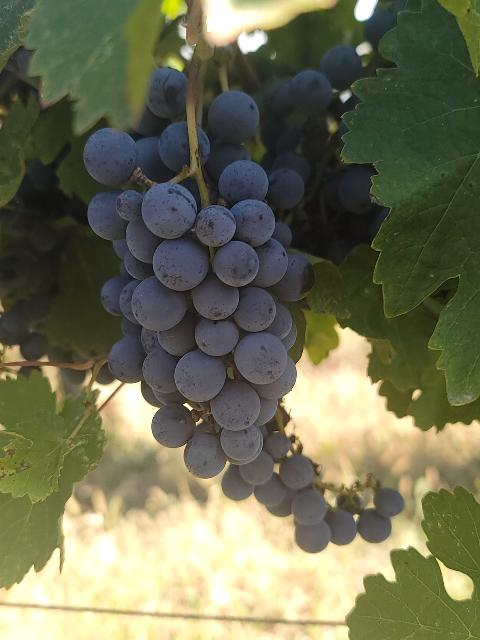grapes: (84, 129, 402, 552)
